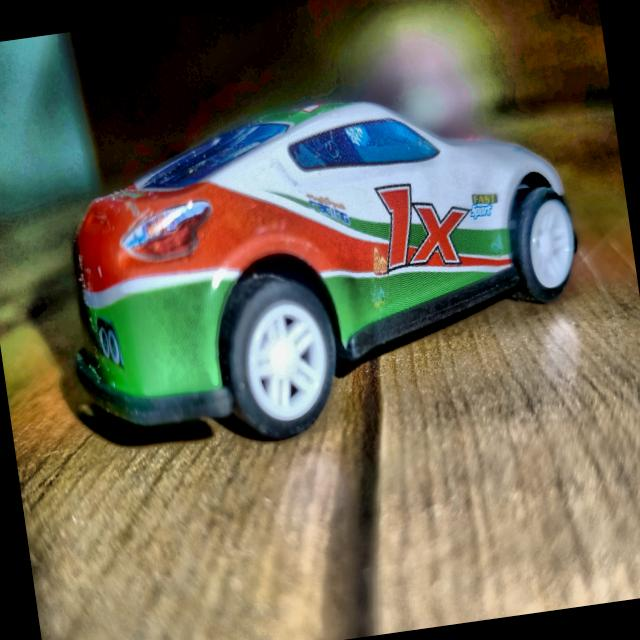Car: (49, 72, 596, 464)
